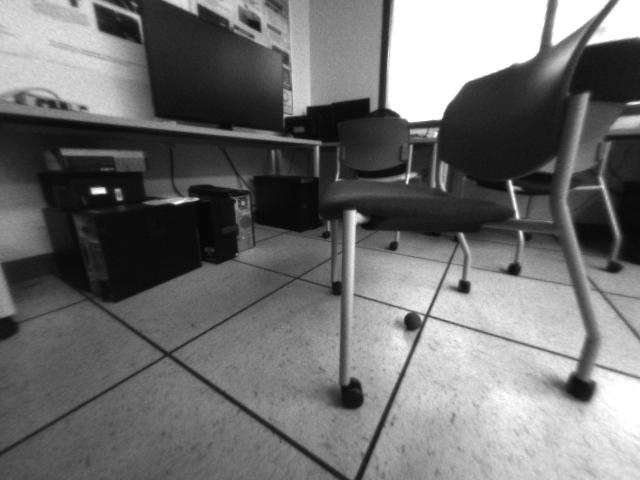dogtoy: (401, 307, 427, 336)
